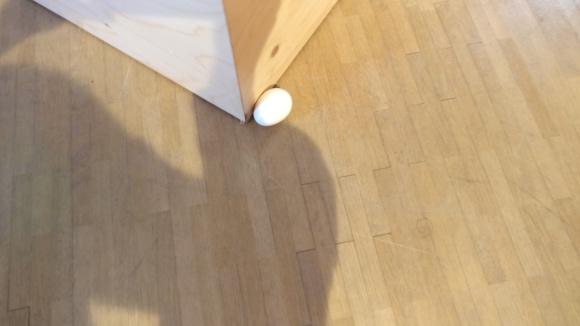egg: (253, 87, 292, 127)
